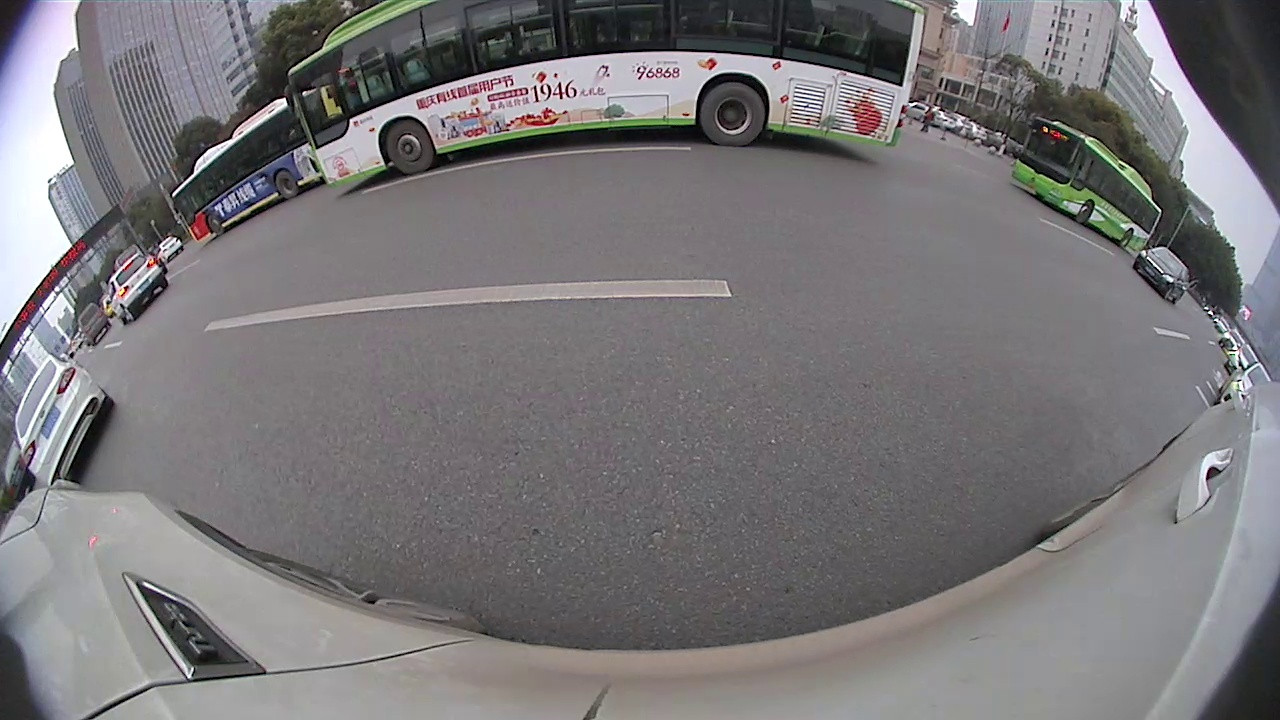bus: (285, 1, 931, 202), (167, 90, 319, 253), (1007, 109, 1168, 260)
car: (14, 355, 115, 491), (102, 245, 172, 326), (1132, 242, 1195, 306)
front: (383, 120, 436, 180), (204, 211, 227, 237), (1073, 201, 1093, 225)
rear: (700, 81, 768, 149), (273, 168, 298, 200), (1118, 230, 1133, 246)
